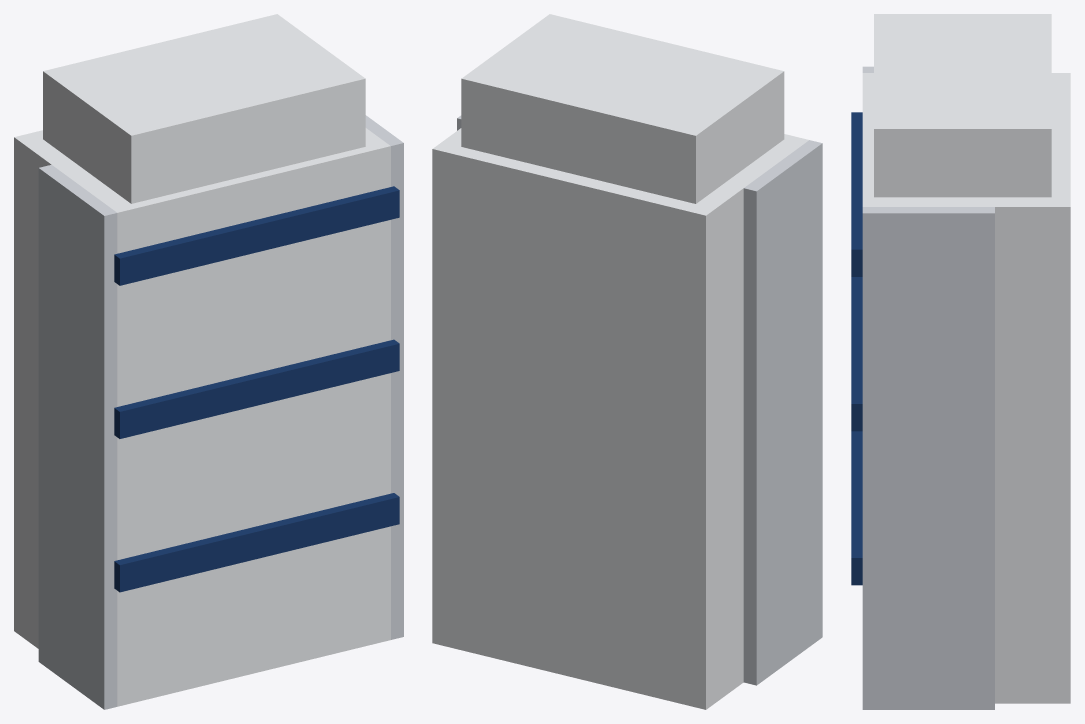
Rendered from pad.glb.
3 views of the same model, side by side, from view 1: azimuth 30°, elevation 25°; view 2: azimuth 150°, elevation 25°; view 3: azimuth 270°, elevation 25° (orthographic).
Visible parts, largest first — view 1: ice_pad_body; view 2: ice_pad_body; view 3: ice_pad_body.
Boxes of the visible parts, left/top/right/bottom form: ice_pad_body: left=14, top=14, right=403, bottom=709; ice_pad_body: left=432, top=14, right=822, bottom=709; ice_pad_body: left=851, top=14, right=1070, bottom=709.
Bounding box in the file's own units: 0.3538 × 0.6346 × 0.2231.
1 material, 1 textured.
